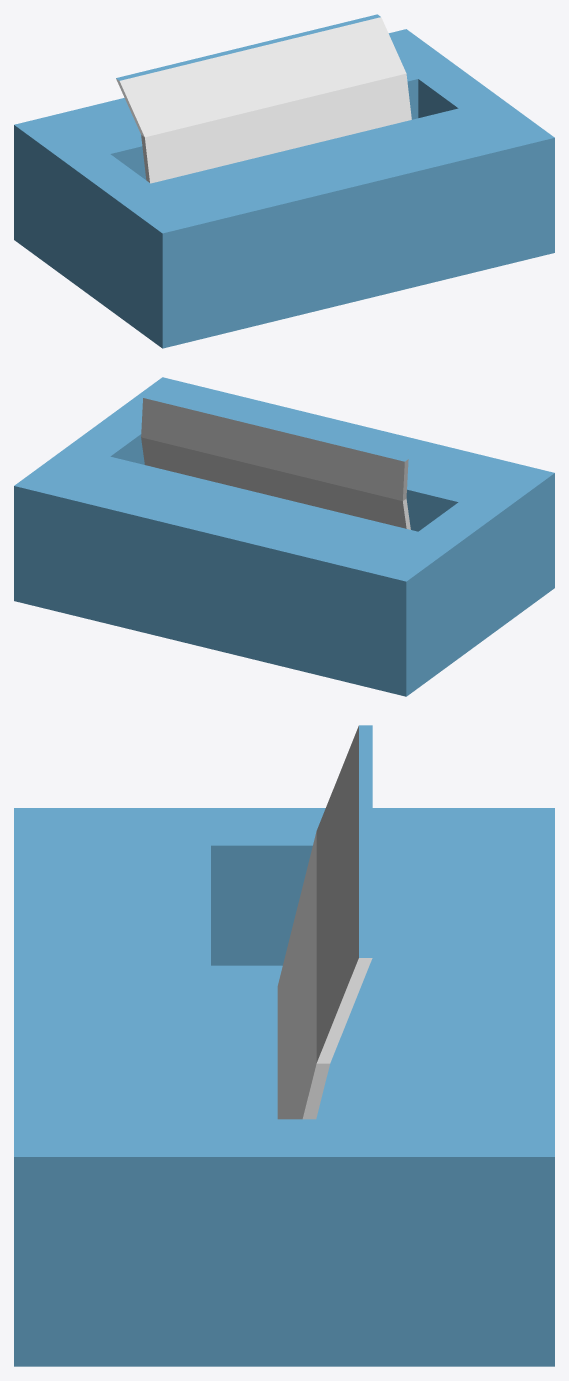
Rendered from thissyu.fbx.
The picture shows the model from 3 angles, top to bottom: view 1: azimuth 30°, elevation 25°; view 2: azimuth 150°, elevation 25°; view 3: azimuth 270°, elevation 25°; orthographic projection. The views are drawn at different scales.
Visible parts, largest first — view 1: thisyu; view 2: thisyu; view 3: thisyu.
Boxes of the visible parts, x1,y1,x2,y2 form: thisyu: [14, 14, 554, 348]; thisyu: [14, 377, 554, 696]; thisyu: [14, 725, 554, 1366].
Size of the model in its own units: 34.43 by 15.58 by 22.58.
